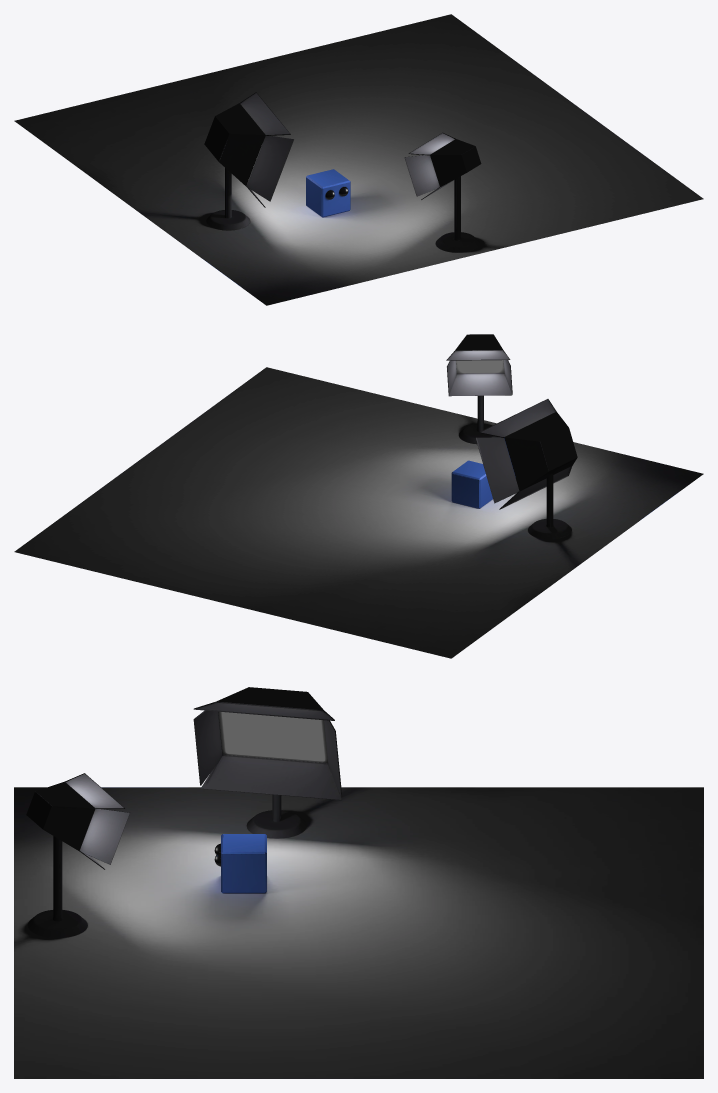
The picture shows the model from 3 angles, top to bottom: view 1: azimuth 30°, elevation 25°; view 2: azimuth 150°, elevation 25°; view 3: azimuth 270°, elevation 25°; orthographic projection. The views are drawn at different scales.
Visible parts, largest first — view 1: cubeScene; view 2: cubeScene; view 3: cubeScene.
Part boxes in pixels (x1,y1,x2,y2): cubeScene: (14, 14, 703, 305); cubeScene: (14, 334, 703, 658); cubeScene: (14, 687, 703, 1078).
Size of the model in its own units: 6 by 1.33 by 6.
1 material, 1 textured.
